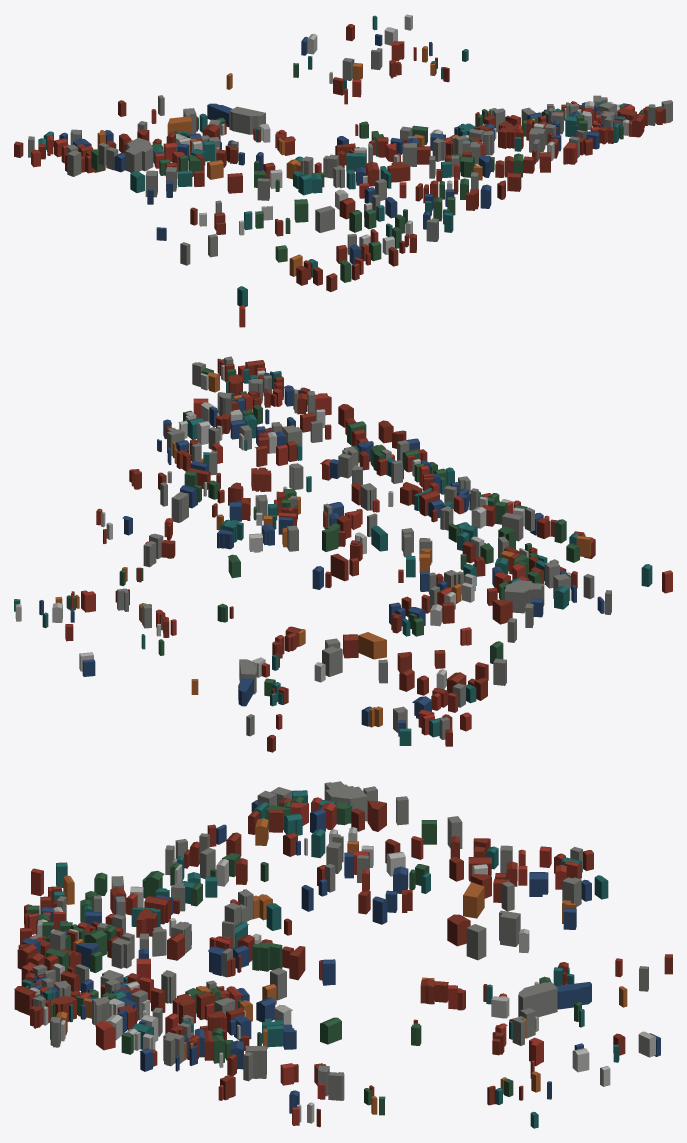
The model's file is near-16-54714-29736.bbe2ee41.glb.
The picture shows the model from 3 angles, top to bottom: view 1: azimuth 30°, elevation 25°; view 2: azimuth 150°, elevation 25°; view 3: azimuth 270°, elevation 25°; orthographic projection. The views are drawn at different scales.
Size of the model in its own units: 597 by 151 by 588.
